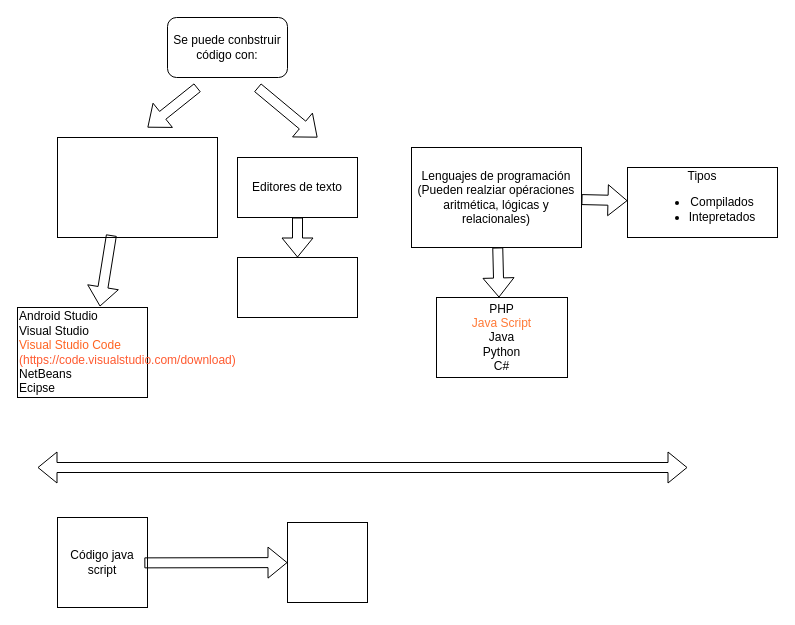
The diagram is 795 pixels wide and 625 high, and some of its shapes have lost their labels. Each missing label, with the centre of its shape:
"Documento que permite la visualización" goes at [327,562].
"IDE (Entorno integrado de de desarrollo) Facilita la vida del desarrollador" goes at [137,187].
"notepad ++ notepad sublimetext" goes at [297,287].
